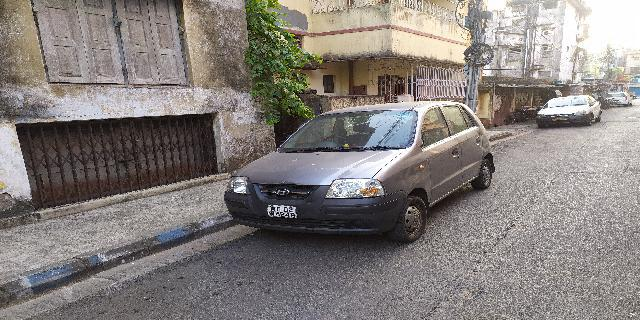Car: (223, 97, 499, 248), (533, 90, 604, 129)
